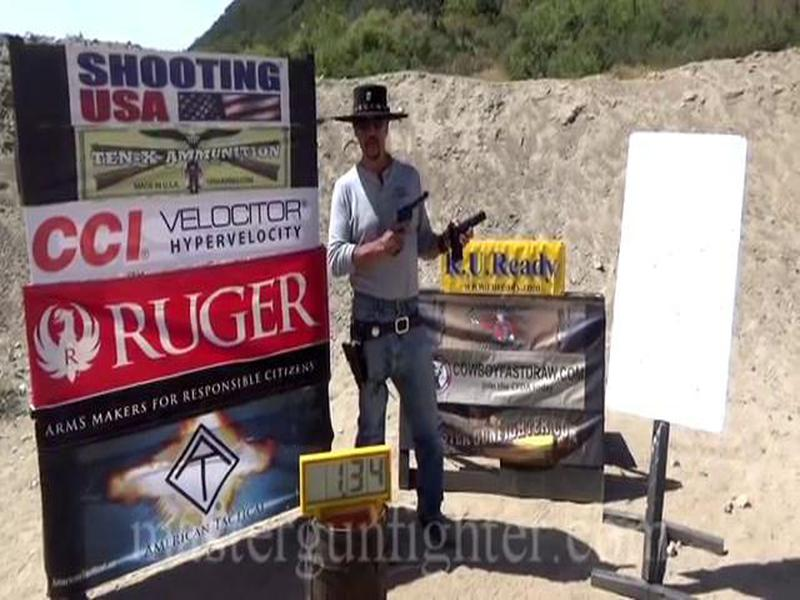Pistola: (440, 205, 504, 274)
Revolver: (384, 183, 432, 258)
